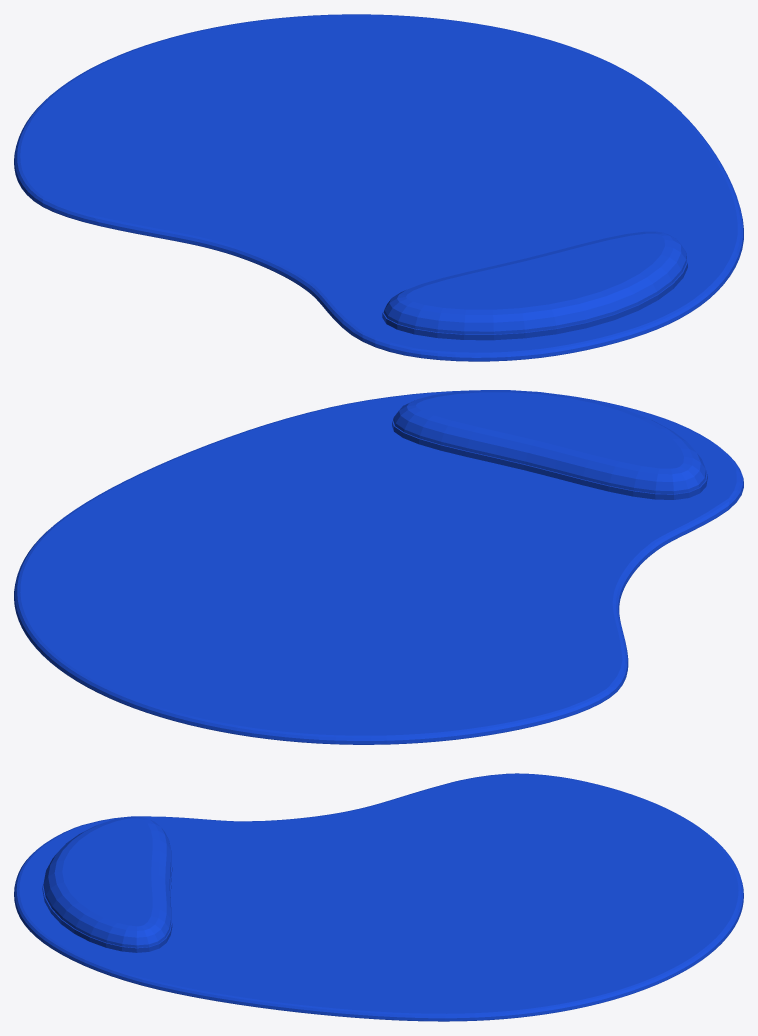
3 renders of one model, top to bottom at view 1: azimuth 30°, elevation 25°; view 2: azimuth 150°, elevation 25°; view 3: azimuth 270°, elevation 25°, orthographic. The views are drawn at different scales.
Visible parts, largest first — view 1: base, Circle; view 2: base, Circle; view 3: base, Circle.
Boxes of the visible parts, box(x1,y1,x2,y2) form: base: box(14, 14, 743, 361); Circle: box(382, 231, 687, 340); base: box(14, 390, 743, 744); Circle: box(392, 390, 707, 499); base: box(14, 773, 743, 1021); Circle: box(42, 816, 172, 952).
Size of the model in its own units: 0.4234 by 0.0189 by 0.5343.
